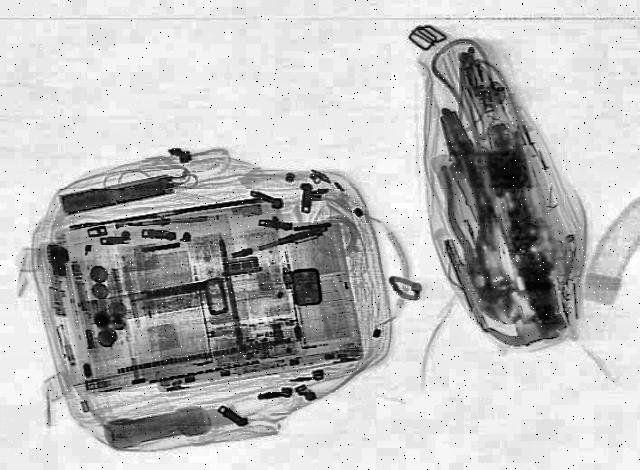Pliers: (432, 160, 510, 300)
